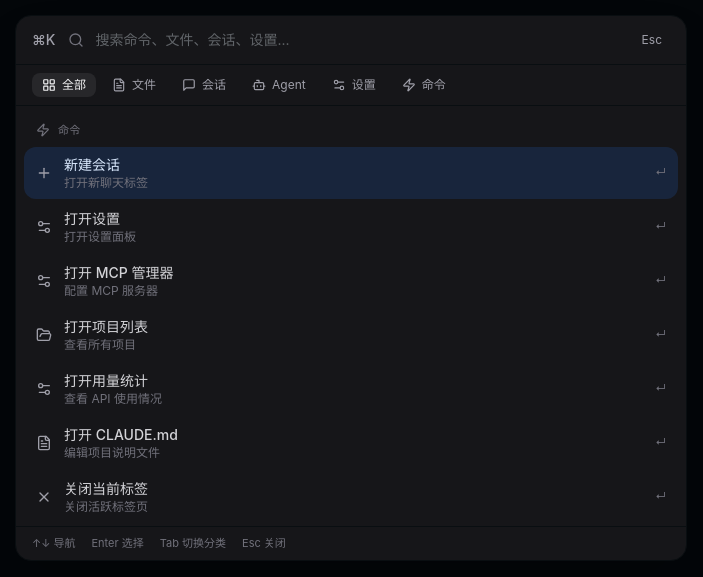
CommandPalette Component › search filtering › no items match when searching nonsense
Type "xyznonexistent12345" into the field with placeholder "搜索命令、文件、会话、设置..." at point(359, 40), box [96,30,622,50]
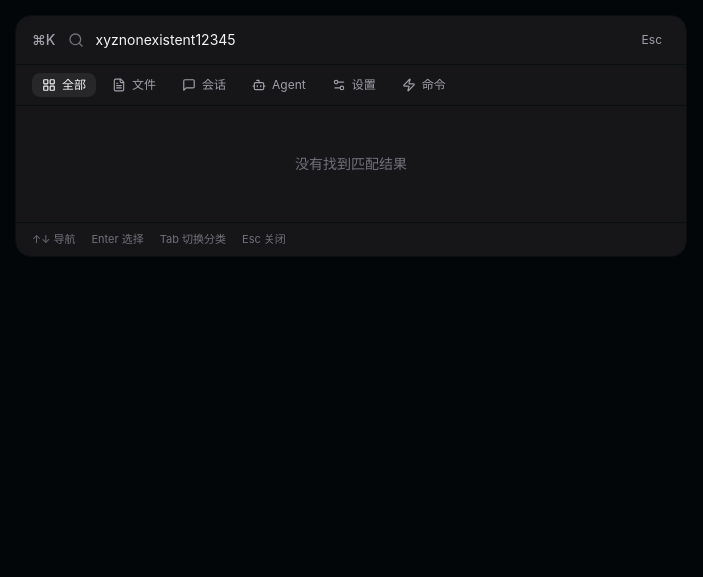
Result: the text "没有找到匹配结果" is shown at [295,155,407,172]
